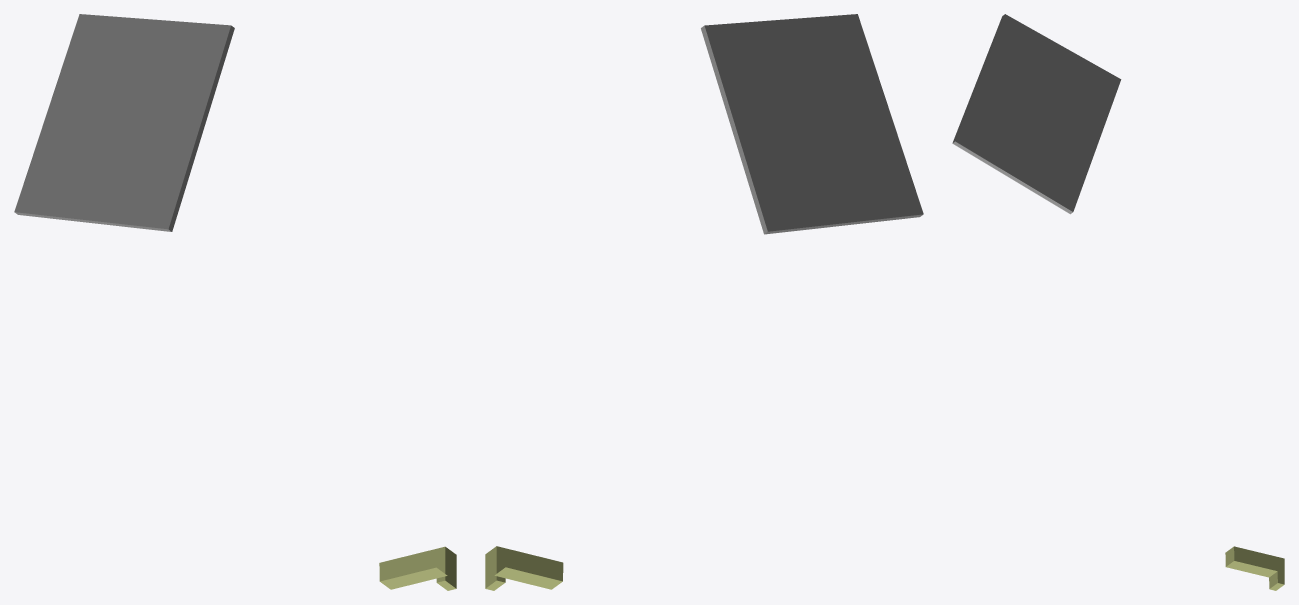
3 views of the same model, side by side, from view 1: azimuth 30°, elevation 25°; view 2: azimuth 150°, elevation 25°; view 3: azimuth 330°, elevation 25° (orthographic). The views are drawn at different scales.
Visible parts, largest first — view 1: 0_3_2_0_0_2; view 2: 0_3_2_0_0_2; view 3: 0_3_2_0_0_2.
Part boxes in pixels (left/top/right/bottom): 0_3_2_0_0_2: left=14, top=14, right=456, bottom=590; 0_3_2_0_0_2: left=485, top=14, right=923, bottom=590; 0_3_2_0_0_2: left=952, top=14, right=1284, bottom=590.
Size of the model in its own units: 199 by 289 by 9.45.
